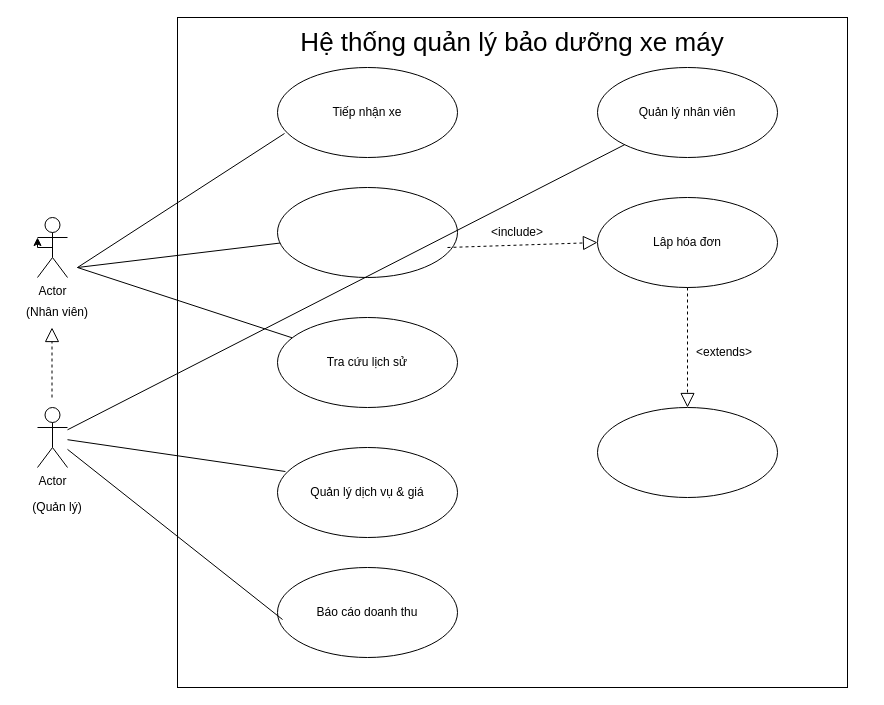
This 884x705 diagram has some shape labels left out. The centre of each missing label's shape, as x and y in pixels:
Ghi nhận dịch vụ: pixel 367 232
Nhắc khách bảo dưỡng: pixel 687 452
